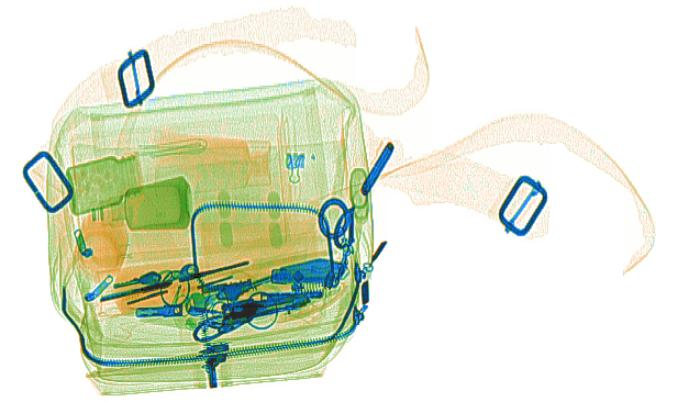knife: (269, 257, 349, 285)
